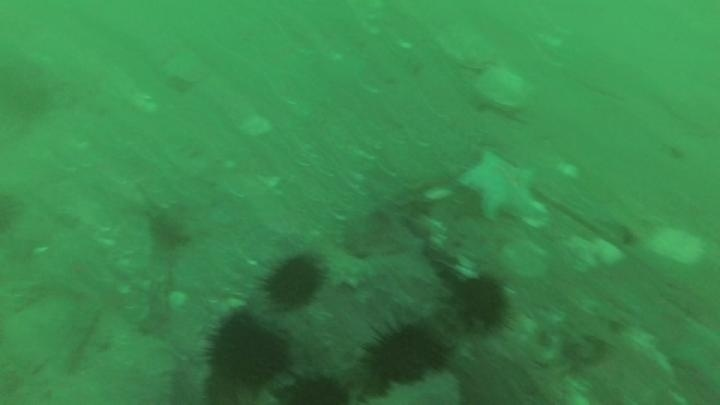echinus: (205, 314, 291, 392), (362, 320, 449, 387), (260, 251, 327, 311), (453, 273, 511, 331), (278, 370, 353, 404)
scallop: (473, 63, 532, 114)
starfish: (458, 149, 548, 227)
